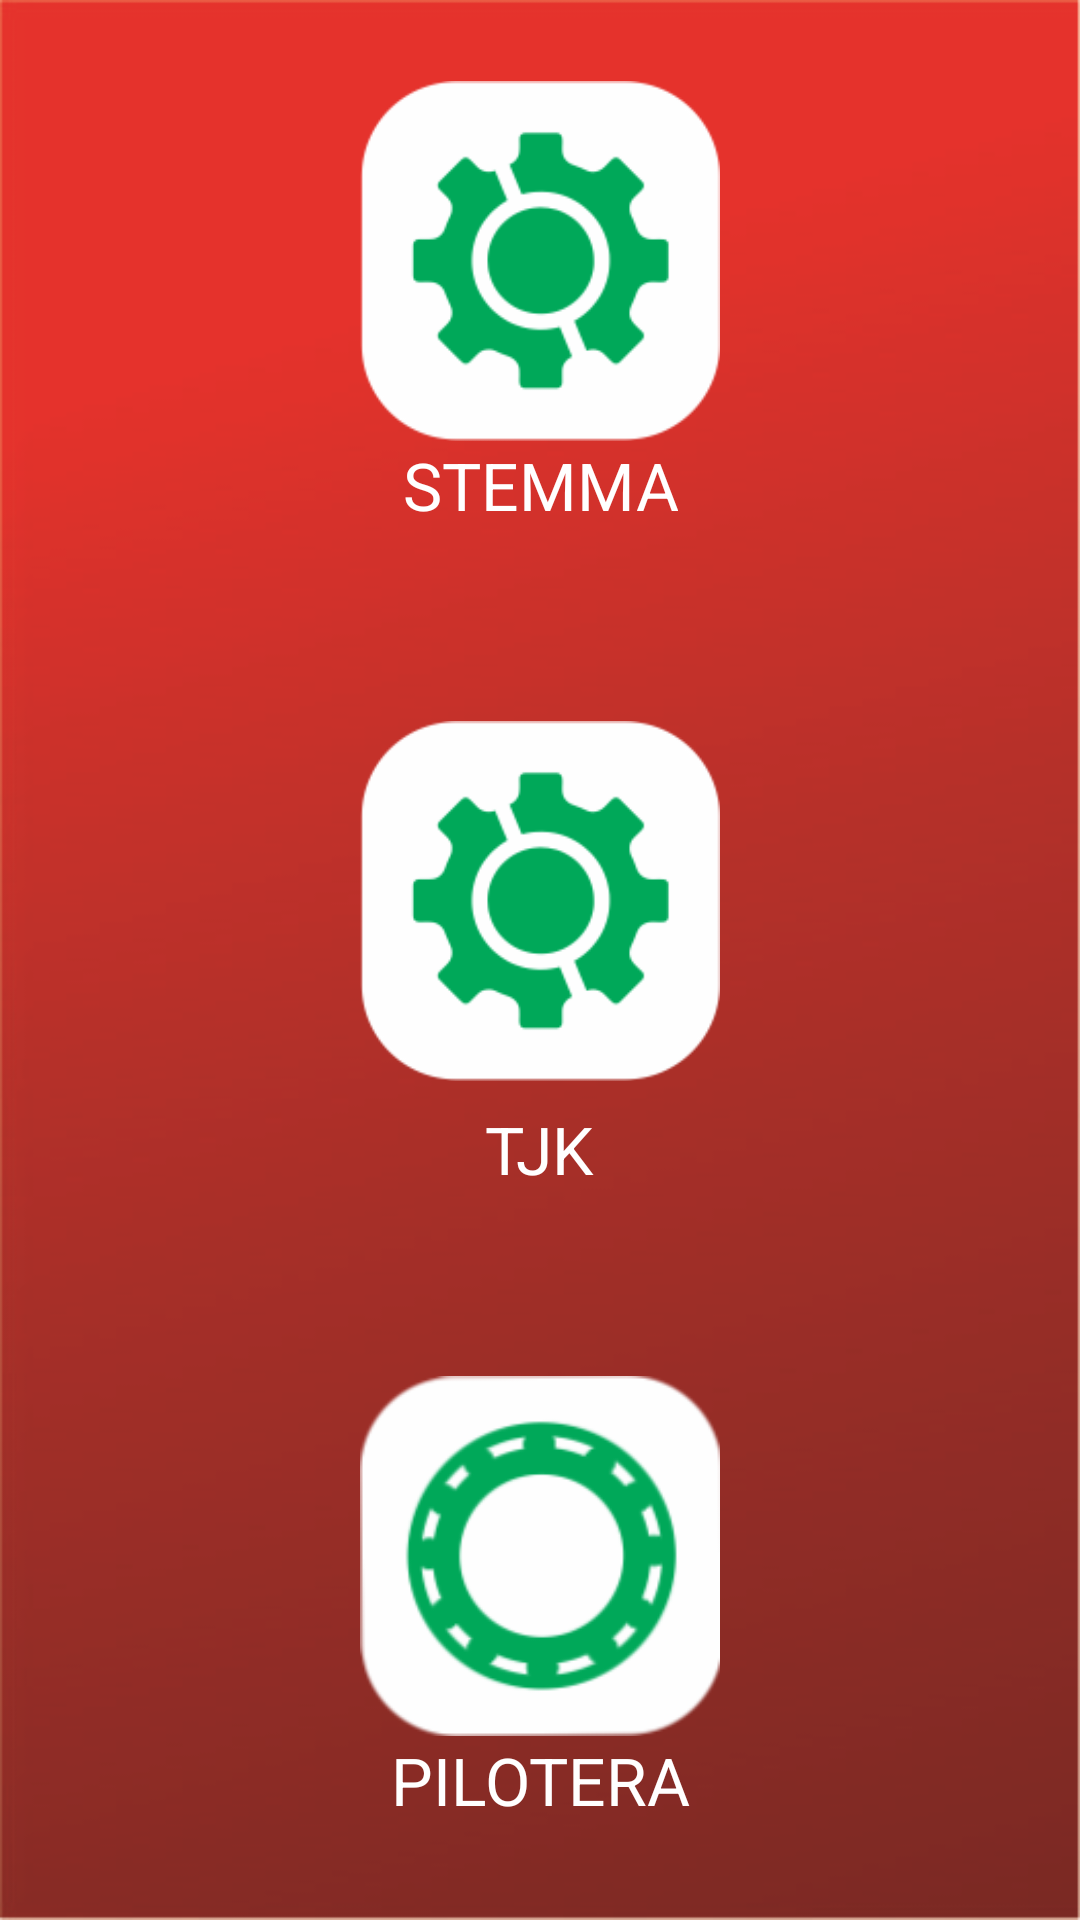

Screen size 1080*1920. Icon name, then its box in pixels as (x1, y1, x2, y2):
circulo: (360, 1376, 720, 1736)
tuerca: (361, 81, 720, 441), (360, 721, 720, 1081)
